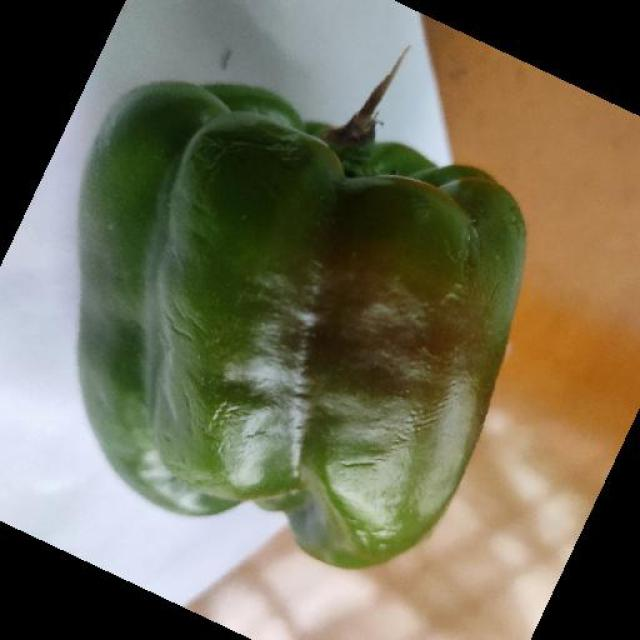Stale_Capsicum: (107, 82, 492, 586)
